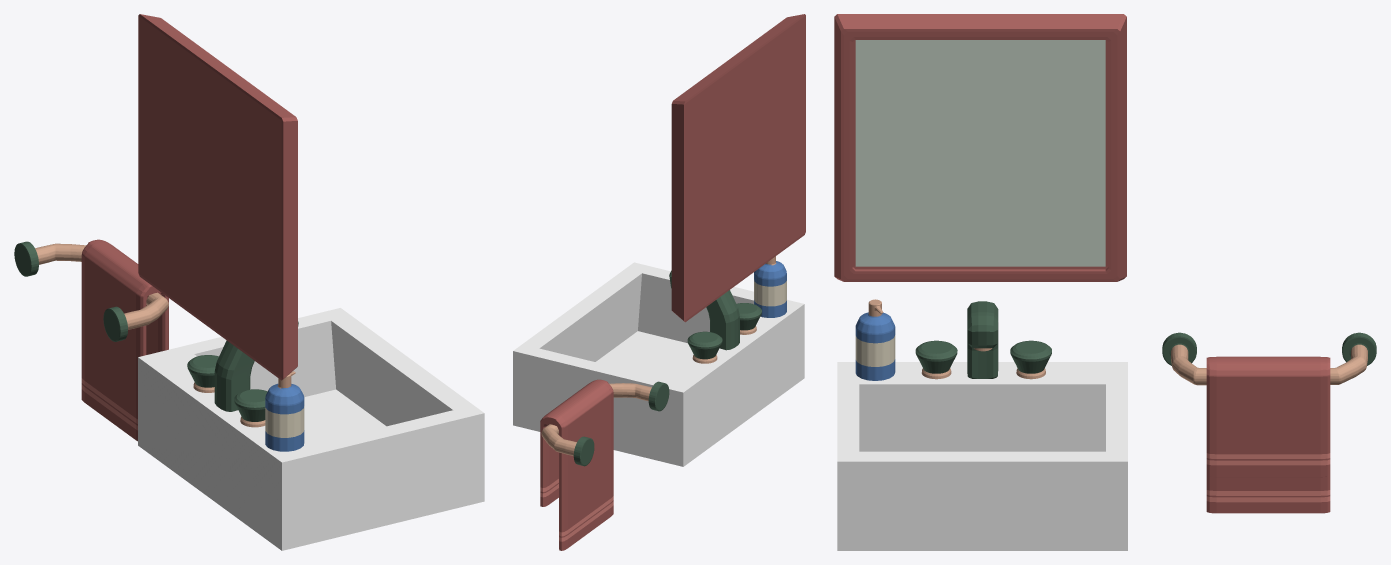
Rendered from Bathroom_Sink.fbx.
3 renders of one model, left to right at view 1: azimuth 30°, elevation 25°; view 2: azimuth 150°, elevation 25°; view 3: azimuth 270°, elevation 25°, orthographic. The views are drawn at different scales.
Visible parts, largest first — view 1: Bathroom_Sink.001, Bathroom_Sink.003, Bathroom_Sink.005, Bathroom_Sink.004, Bathroom_Sink.006, Bathroom_Sink.007, Bathroom_Sink.002; view 2: Bathroom_Sink.001, Bathroom_Sink.003, Bathroom_Sink.005, Bathroom_Sink.004, Bathroom_Sink.006, Bathroom_Sink.002, Bathroom_Sink.007; view 3: Bathroom_Sink, Bathroom_Sink.003, Bathroom_Sink.001, Bathroom_Sink.005, Bathroom_Sink.002, Bathroom_Sink.004, Bathroom_Sink.006, Bathroom_Sink.007.
Boxes of the visible parts, box(x1,y1,x2,y2) form: Bathroom_Sink.001: box(81, 14, 297, 441); Bathroom_Sink.003: box(138, 308, 484, 550); Bathroom_Sink.005: box(14, 241, 298, 421); Bathroom_Sink.004: box(35, 243, 295, 427); Bathroom_Sink.006: box(265, 383, 304, 451); Bathroom_Sink.007: box(265, 406, 304, 437); Bathroom_Sink.002: box(81, 378, 137, 430); Bathroom_Sink.001: box(540, 14, 805, 550); Bathroom_Sink.003: box(513, 262, 804, 466); Bathroom_Sink.005: box(573, 270, 761, 466); Bathroom_Sink.004: box(541, 256, 776, 455); Bathroom_Sink.006: box(754, 261, 786, 317); Bathroom_Sink.002: box(540, 479, 613, 541); Bathroom_Sink.007: box(754, 280, 786, 306); Bathroom_Sink: box(855, 40, 1105, 266); Bathroom_Sink.003: box(837, 362, 1127, 550); Bathroom_Sink.001: box(834, 14, 1330, 513); Bathroom_Sink.005: box(915, 301, 1376, 378); Bathroom_Sink.002: box(1206, 453, 1330, 502); Bathroom_Sink.004: box(868, 299, 1367, 385); Bathroom_Sink.006: box(855, 312, 895, 380); Bathroom_Sink.007: box(855, 335, 895, 366).
Bounding box in the file's own units: 84.21 × 186 × 193.
